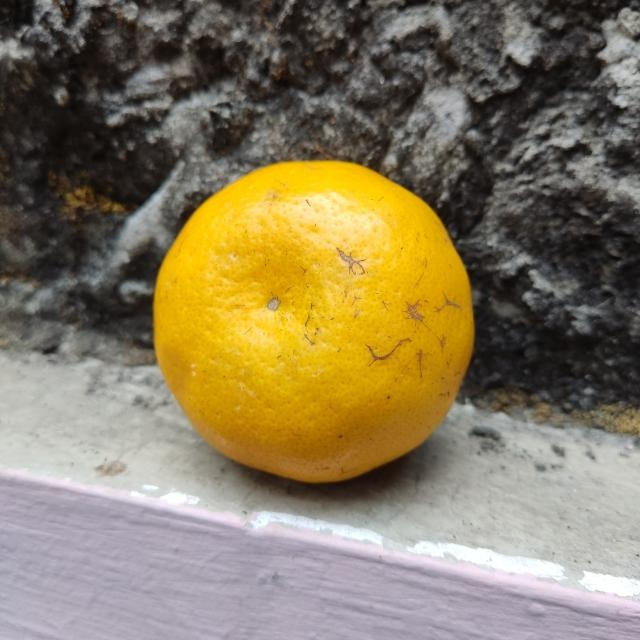agrume: (154, 158, 482, 485)
